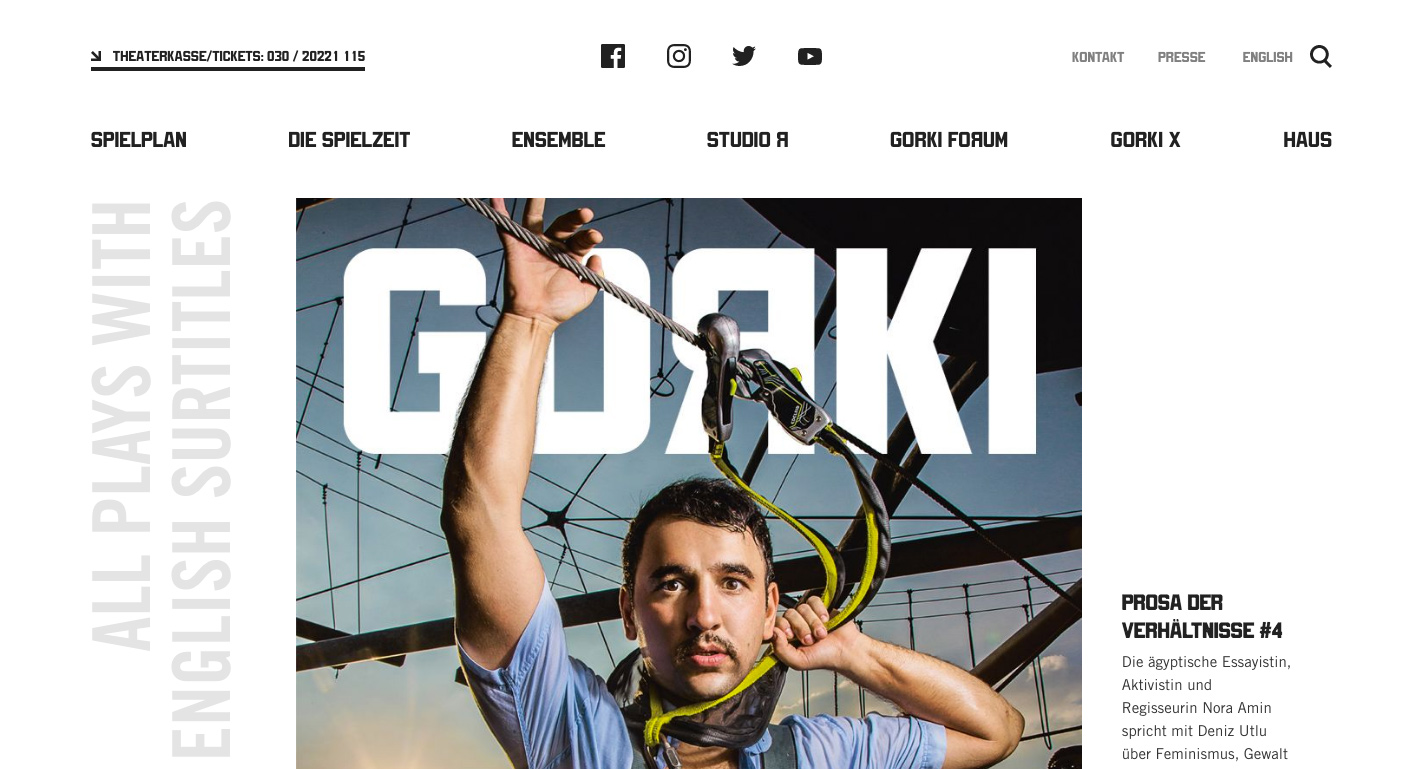Image: (290, 194, 1085, 769)
Menu Bar: (57, 101, 1343, 168)
Nav Bar: (579, 30, 835, 89), (1052, 19, 1305, 78)
Side Bar: (1104, 548, 1314, 769)
